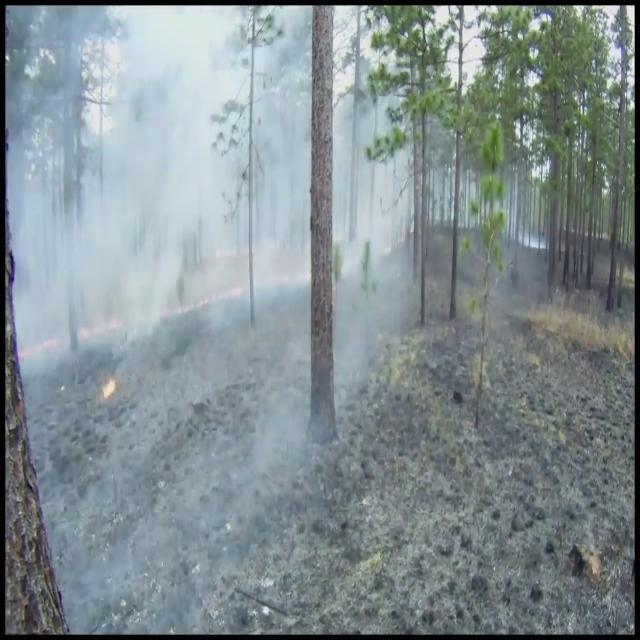Smoke: (7, 8, 405, 538)
